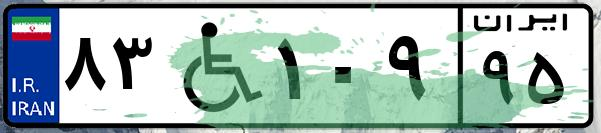0: (330, 28, 385, 110)
1: (270, 28, 330, 110)
3: (110, 28, 158, 98)
5: (525, 38, 570, 115)
8: (57, 26, 110, 100)
9: (385, 28, 445, 110), (475, 38, 525, 113)
ژ (معلولین و جانبازان): (158, 12, 270, 120)
